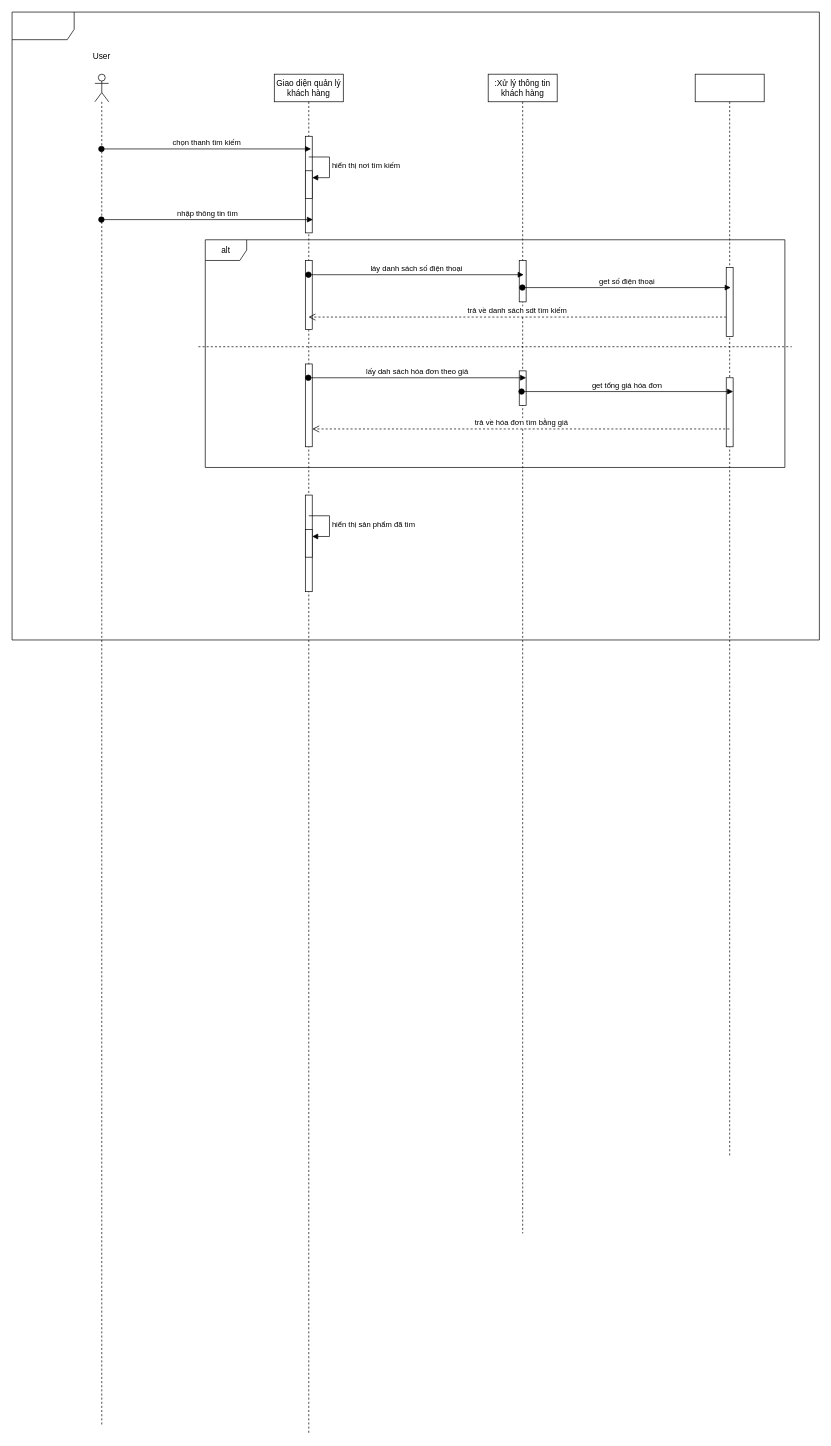
The diagram is 831 pixels wide and 1446 high, and some of its shapes have lost their labels. Each missing label, with the box of its shape:
Cơ sở dữ liệu khách hàng: (694, 73, 764, 1157)
Tìm kiếm khách hàng: (11, 11, 819, 640)
